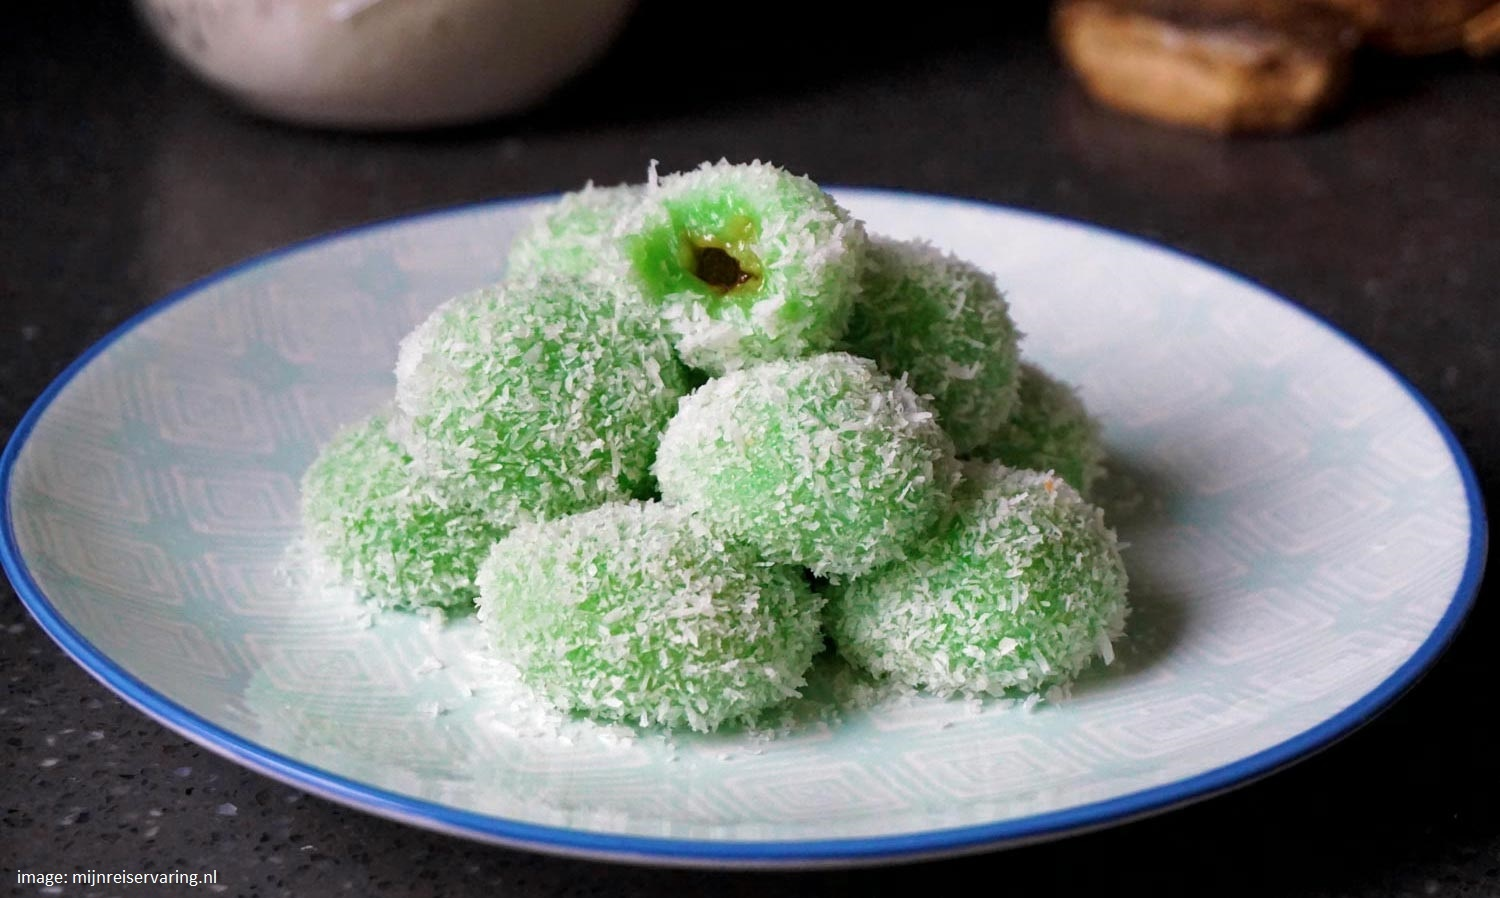klepon: (465, 506, 879, 745), (371, 285, 693, 510), (656, 365, 969, 554), (594, 140, 856, 358)
